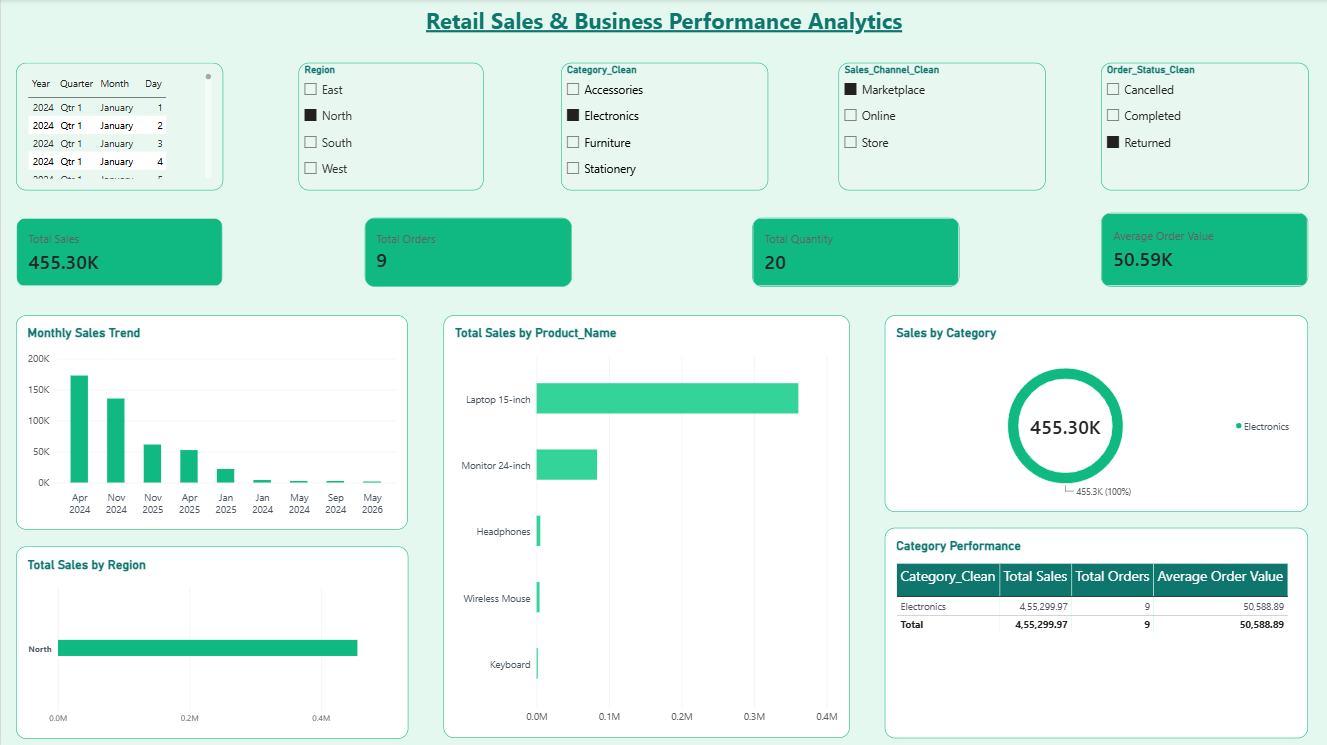

What the dashboard file says about the page in this screenshot:
{"tool":"powerbi","page":{"name":"Executive Overview","canvas":[1920,1080],"ordinal":0},"visuals":[{"type":"textbox","box":[590,8.8,740,50],"z":0},{"type":"tableEx","fields":{"Values":["DateTable.Date.Variation.Date Hierarchy.Year","DateTable.Date.Variation.Date Hierarchy.Quarter","DateTable.Date.Variation.Date Hierarchy.Month","DateTable.Date.Variation.Date Hierarchy.Day"]},"box":[22.5,92.5,300,185],"z":1000},{"type":"slicer","fields":{"Values":["Clean_data.Category_Clean"]},"box":[810,92.5,300,185],"z":2000},{"type":"slicer","fields":{"Values":["Clean_data.Sales_Channel_Clean"]},"box":[1212.5,92.5,300,185],"z":3000},{"type":"slicer","fields":{"Values":["Clean_data.Order_Status_Clean"]},"box":[1592.5,92.3,300.4,184.6],"z":4000},{"type":"cardVisual","fields":{"Data":["Clean_data.Total Sales"]},"box":[22.5,317.5,300,100],"z":5000},{"type":"cardVisual","fields":{"Data":["Clean_data.Total Orders"]},"box":[527.5,317.5,300,100],"z":6000},{"type":"cardVisual","fields":{"Data":["Clean_data.Total Quantity"]},"box":[1087.5,317.5,300,100],"z":7000},{"type":"cardVisual","fields":{"Data":["Clean_data.Average Order Value"]},"box":[1592.5,310,300,107.5],"z":8000},{"type":"clusteredColumnChart","title":"Monthly Sales Trend","fields":{"Category":["DateTable.Month Year"],"Y":["Clean_data.Total Sales"]},"box":[22.2,457.4,567.5,310],"z":9000},{"type":"donutChart","title":"Sales by Category","fields":{"Category":["Clean_data.Category_Clean"],"Y":["Clean_data.Total Sales"]},"box":[1280,457.5,612.5,285],"z":10000},{"type":"barChart","fields":{"Category":["Clean_data.Region"],"Y":["Clean_data.Total Sales"]},"box":[22.2,792.6,568,278],"z":11000},{"type":"barChart","fields":{"Category":["Clean_data.Product_Name"],"Y":["Clean_data.Total Sales"]},"box":[640,457.8,587.8,612.2],"z":12000},{"type":"tableEx","title":"Category Performance","fields":{"Values":["Clean_data.Category_Clean","Clean_data.Total Sales","Clean_data.Total Orders","Clean_data.Average Order Value"]},"box":[1280,765,612.5,305],"z":13000},{"type":"slicer","fields":{"Values":["Clean_data.Region"]},"box":[430,92.5,268,185],"z":14000}]}

Visuals, with their boxes in screenshot pixels (x1, y1, x2, y2), scaled from the page's 1920x1080 canvas onto the 1327x745 screenshot:
textbox: {"left": 408, "top": 6, "right": 919, "bottom": 41}
tableEx - DateTable.Date.Variation.Date Hierarchy.Year x DateTable.Date.Variation.Date Hierarchy.Quarter: {"left": 16, "top": 64, "right": 223, "bottom": 191}
slicer - Clean_data.Category_Clean: {"left": 560, "top": 64, "right": 767, "bottom": 191}
slicer - Clean_data.Sales_Channel_Clean: {"left": 838, "top": 64, "right": 1045, "bottom": 191}
slicer - Clean_data.Order_Status_Clean: {"left": 1101, "top": 64, "right": 1308, "bottom": 191}
cardVisual - Clean_data.Total Sales: {"left": 16, "top": 219, "right": 223, "bottom": 288}
cardVisual - Clean_data.Total Orders: {"left": 365, "top": 219, "right": 572, "bottom": 288}
cardVisual - Clean_data.Total Quantity: {"left": 752, "top": 219, "right": 959, "bottom": 288}
cardVisual - Clean_data.Average Order Value: {"left": 1101, "top": 214, "right": 1308, "bottom": 288}
"Monthly Sales Trend" clusteredColumnChart: {"left": 15, "top": 316, "right": 408, "bottom": 529}
"Sales by Category" donutChart: {"left": 885, "top": 316, "right": 1308, "bottom": 512}
barChart - Clean_data.Region x Clean_data.Total Sales: {"left": 15, "top": 547, "right": 408, "bottom": 739}
barChart - Clean_data.Product_Name x Clean_data.Total Sales: {"left": 442, "top": 316, "right": 849, "bottom": 738}
"Category Performance" tableEx: {"left": 885, "top": 528, "right": 1308, "bottom": 738}
slicer - Clean_data.Region: {"left": 297, "top": 64, "right": 482, "bottom": 191}
